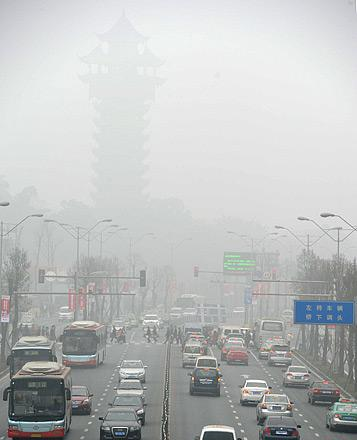bus: (2, 360, 72, 440), (5, 335, 58, 391), (57, 320, 107, 368), (258, 319, 285, 351)
car: (97, 406, 143, 440), (106, 394, 148, 427), (255, 415, 301, 440), (257, 393, 295, 422), (325, 398, 356, 433), (187, 367, 223, 395), (64, 384, 93, 416), (238, 379, 273, 405), (113, 379, 148, 404), (307, 381, 340, 406), (116, 359, 149, 382), (193, 425, 243, 440), (281, 365, 312, 388), (194, 356, 221, 379), (266, 344, 294, 366), (182, 342, 203, 368), (219, 326, 242, 349), (185, 334, 209, 356), (226, 346, 250, 367), (221, 341, 244, 362), (258, 342, 277, 360), (142, 314, 161, 330), (57, 306, 75, 320), (169, 307, 183, 321), (182, 307, 197, 320)
